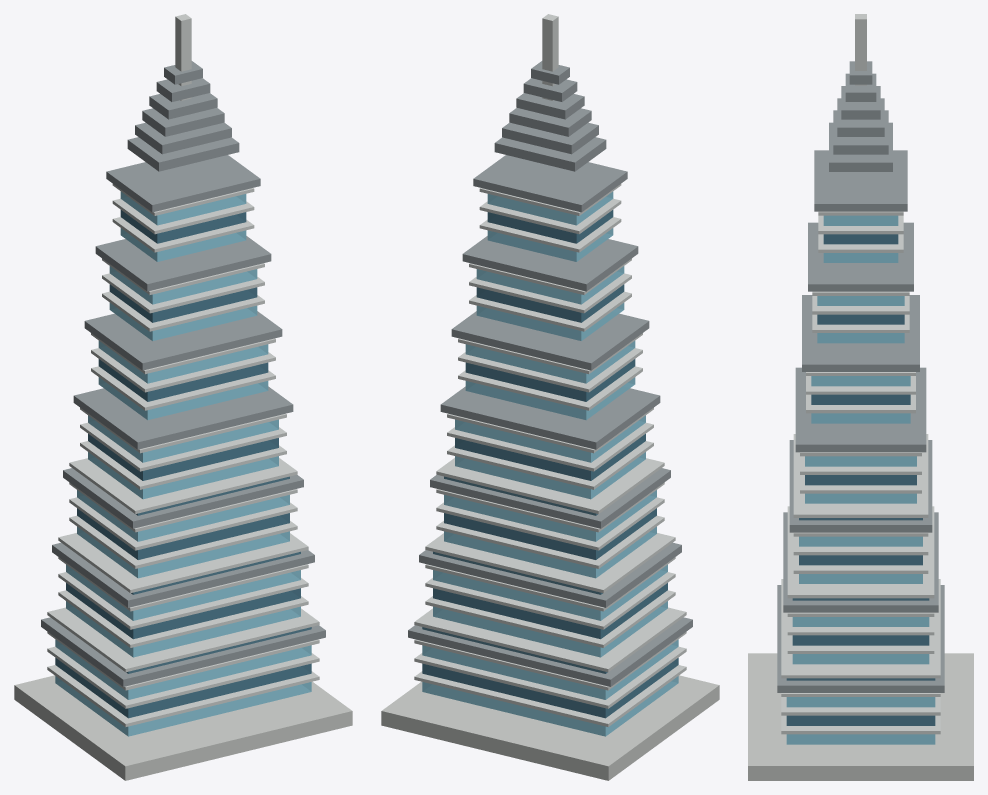
The model's file is voxel-shanghai-jinmao-tower.gltf.
3 renders of one model, left to right at view 1: azimuth 30°, elevation 25°; view 2: azimuth 150°, elevation 25°; view 3: azimuth 270°, elevation 25°, orthographic.
Size of the model in its own units: 2.6 by 7.61 by 2.2.
